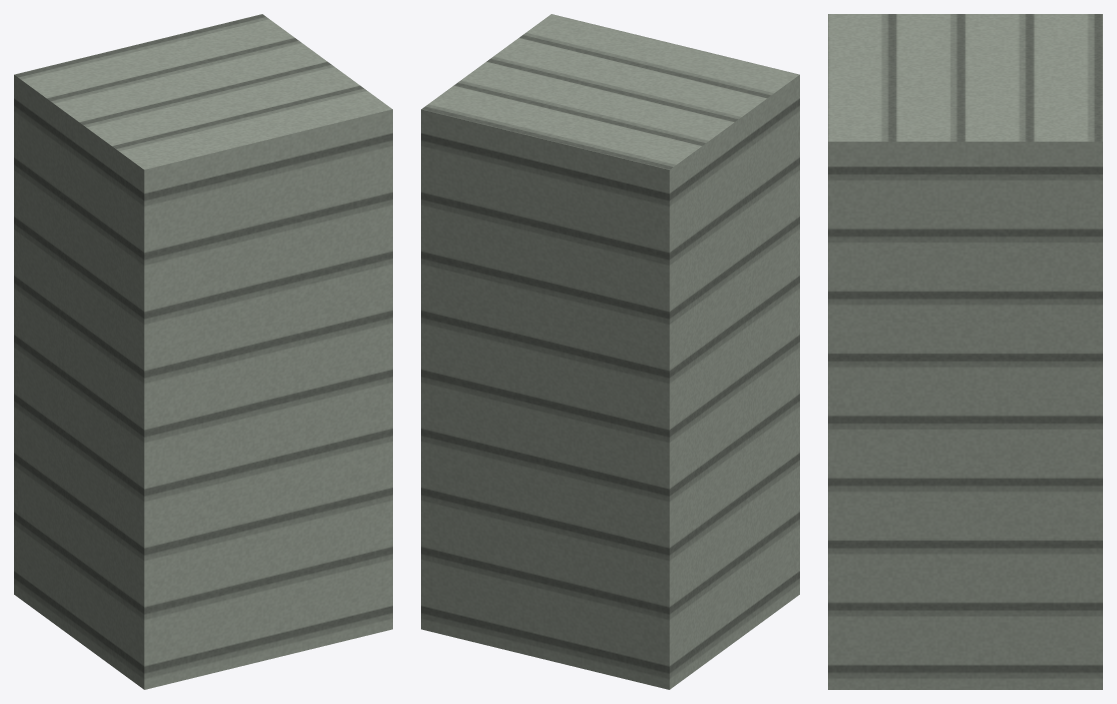
Rendered from icebox.glb.
The picture shows the model from 3 angles, left to right: view 1: azimuth 30°, elevation 25°; view 2: azimuth 150°, elevation 25°; view 3: azimuth 270°, elevation 25°; orthographic projection. The views are drawn at different scales.
Visible parts, largest first — view 1: icebox-col; view 2: icebox-col; view 3: icebox-col.
Boxes of the visible parts, left/top/right/bottom form: icebox-col: left=14, top=14, right=392, bottom=689; icebox-col: left=421, top=14, right=799, bottom=689; icebox-col: left=828, top=14, right=1102, bottom=689.
Size of the model in its own units: 0.55 by 1.1 by 0.5.
1 material, 1 textured.
